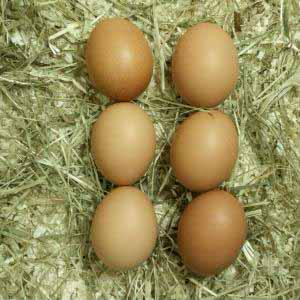egg: (170, 21, 238, 109), (177, 191, 246, 277), (89, 186, 158, 271), (85, 19, 153, 102), (91, 101, 156, 187), (169, 110, 238, 191)
